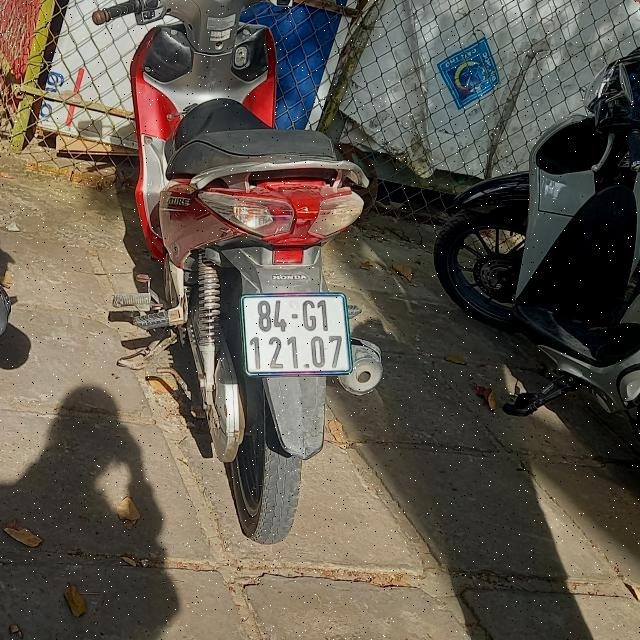0: (312, 336, 325, 369)
1: (251, 337, 261, 370), (317, 300, 327, 332), (288, 337, 298, 369)
2: (269, 336, 283, 369)
4: (274, 300, 286, 331)
7: (328, 335, 342, 367)
8: (258, 301, 271, 331)
G: (303, 300, 316, 330)
